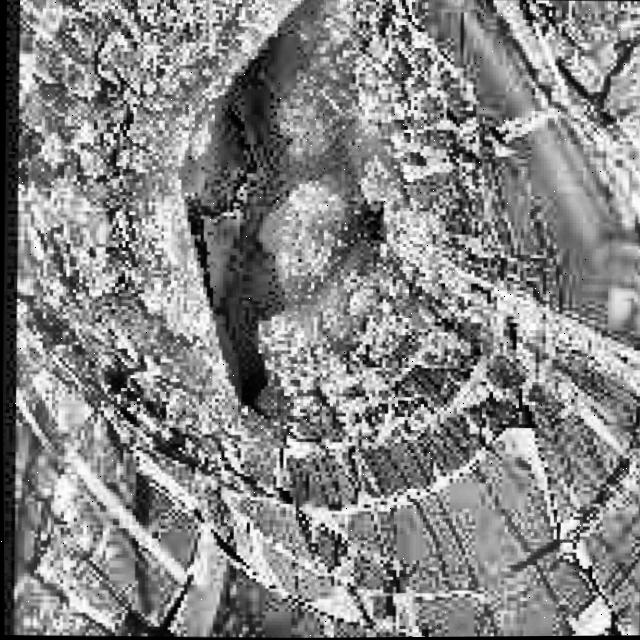glass_shatter: (143, 12, 416, 444)
